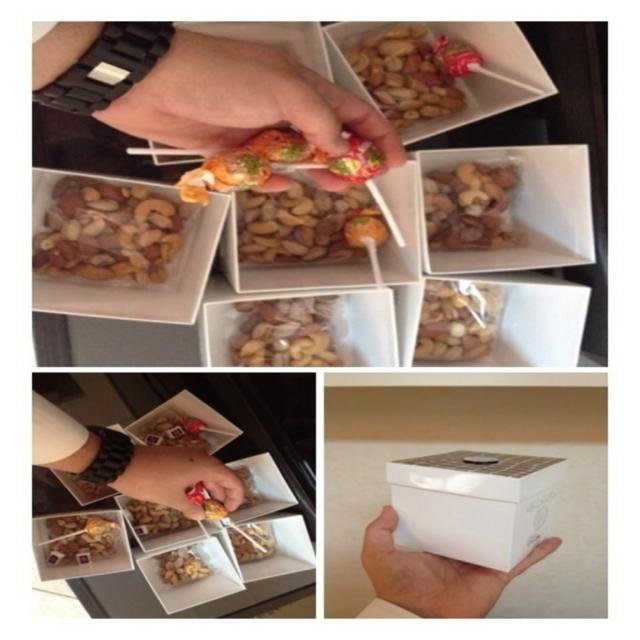Box: (324, 14, 561, 150), (24, 169, 229, 325), (147, 18, 337, 164), (216, 163, 419, 293), (410, 148, 594, 276), (383, 452, 569, 574), (398, 278, 590, 366), (201, 286, 403, 367), (132, 535, 247, 612), (48, 423, 149, 507), (127, 389, 245, 455), (32, 510, 132, 579), (225, 513, 319, 584), (223, 452, 297, 528), (112, 497, 203, 552)
